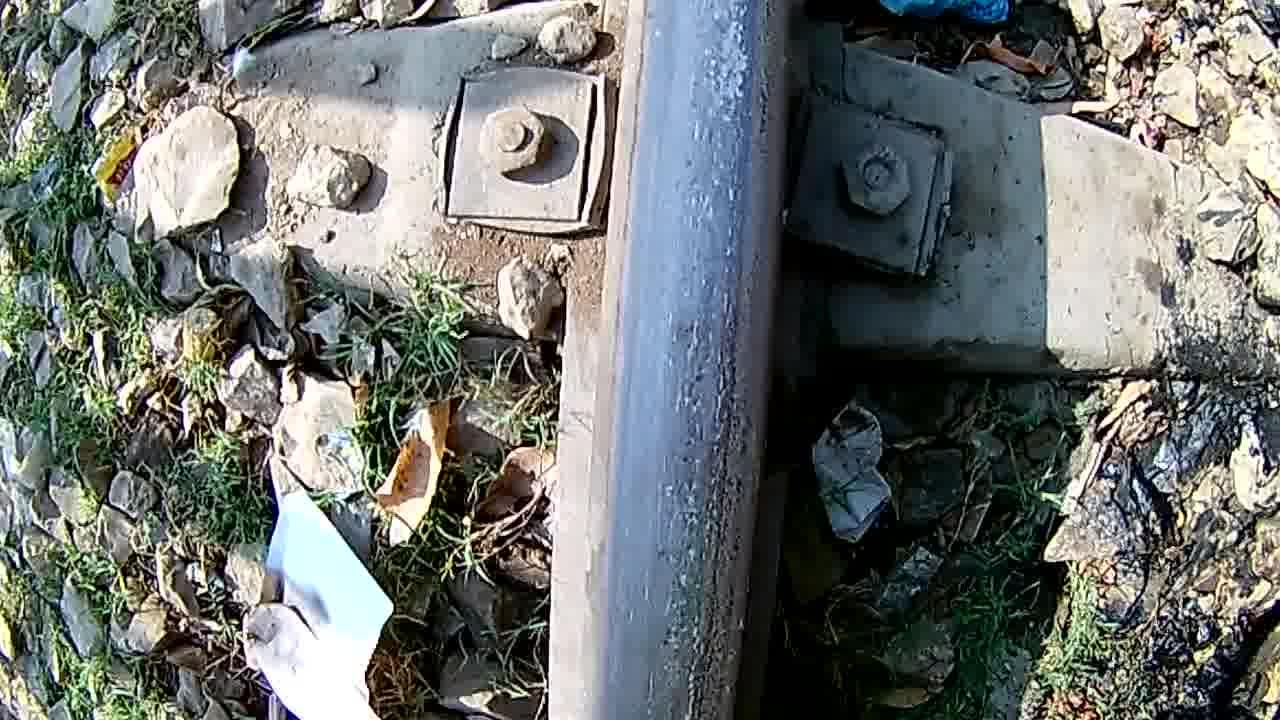clip_missing: (619, 0, 764, 718)
